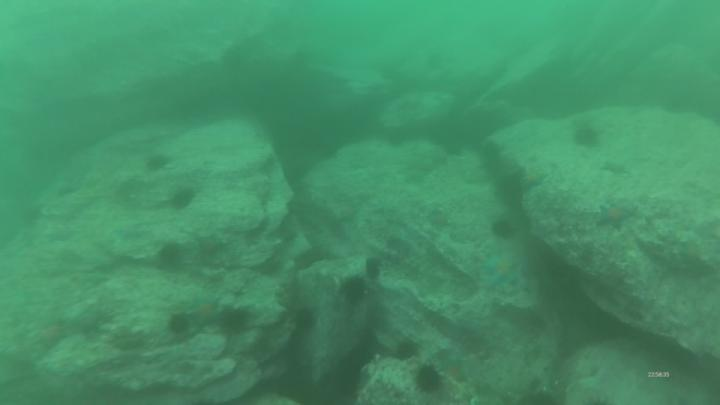echinus: (160, 244, 185, 271), (341, 279, 367, 302), (573, 129, 599, 149), (417, 366, 436, 392), (492, 218, 517, 237), (393, 338, 414, 358), (147, 155, 170, 173), (173, 187, 193, 207), (169, 316, 191, 332), (298, 310, 313, 328)
starfish: (482, 254, 519, 287), (598, 202, 633, 229), (197, 234, 227, 262), (192, 300, 224, 326), (34, 325, 66, 348), (111, 331, 144, 349), (443, 358, 464, 385), (521, 171, 548, 190), (429, 209, 449, 228), (604, 160, 627, 175)
